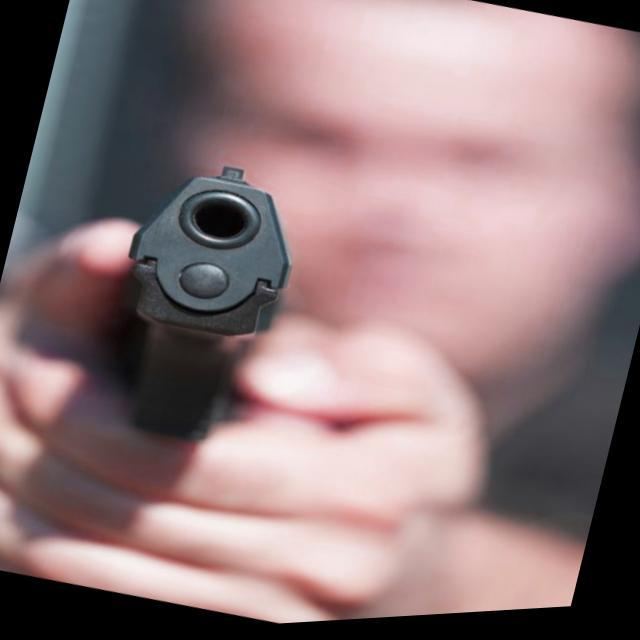weapon: (84, 144, 314, 463)
